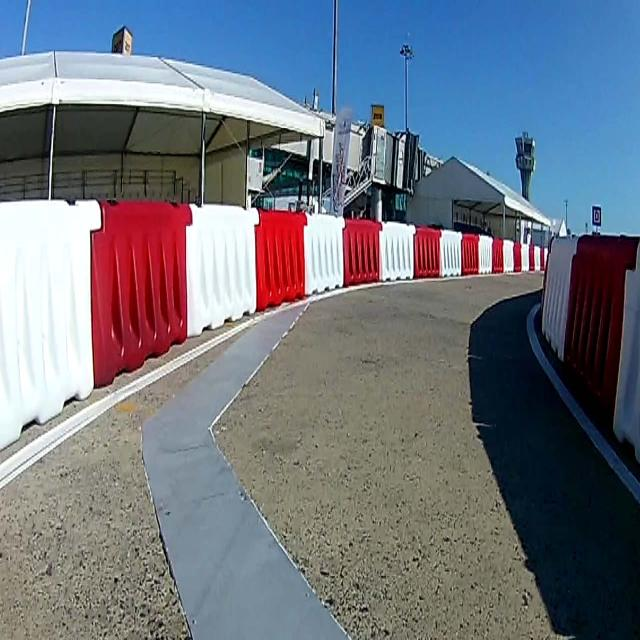durak: (593, 207, 600, 223)
